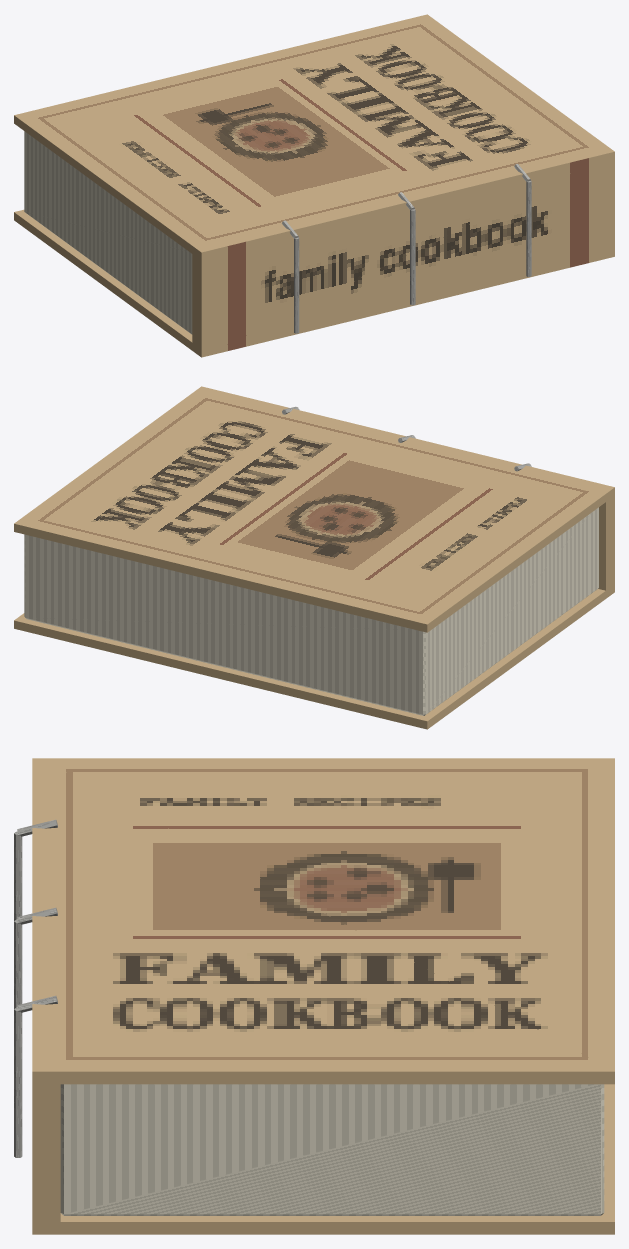
The model's file is family_cookbook.glb.
3 views of the same model, one above another, from view 1: azimuth 30°, elevation 25°; view 2: azimuth 150°, elevation 25°; view 3: azimuth 270°, elevation 25° (orthographic). The views are drawn at different scales.
Parts seen in each view (by area): view 1: block_front, block_spine, block_pages, block_back, block_binding edge (×3); view 2: block_front, block_pages, block_back, block_spine; view 3: block_front, block_pages, block_back, block_spine, block_binding edge (×3).
Boxes of the visible parts, box(x1,y1,x2,y2) form: block_front: box(14, 14, 611, 258); block_spine: box(192, 148, 614, 357); block_pages: box(24, 131, 192, 334); block_back: box(14, 209, 199, 355); block_binding edge (×3): box(294, 181, 531, 333); block_front: box(14, 388, 611, 632); block_pages: box(24, 507, 598, 715); block_back: box(14, 586, 612, 729); block_spine: box(197, 386, 614, 594); block_front: box(39, 758, 614, 1084); block_pages: box(60, 1084, 604, 1215); block_back: box(39, 1084, 614, 1234); block_spine: box(32, 758, 60, 1234); block_binding edge (×3): box(14, 831, 22, 1157).
Size of the model in its own units: 0.2763 by 0.0697 by 0.2239.
1 material, 1 textured.
